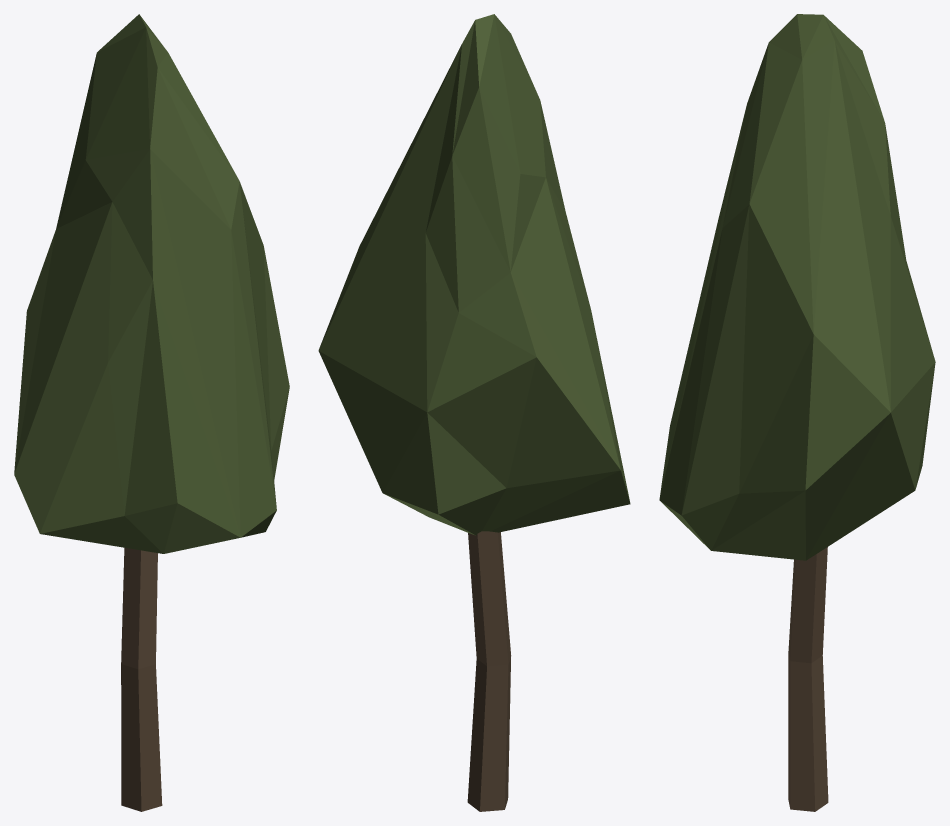
File: Tree_089.fbx
3 renders of one model, left to right at view 1: azimuth 30°, elevation 25°; view 2: azimuth 150°, elevation 25°; view 3: azimuth 270°, elevation 25°, orthographic.
Visible parts, largest first — view 1: Tree_089; view 2: Tree_089; view 3: Tree_089.
Boxes of the visible parts, bbox=[...] form: Tree_089: bbox=[14, 14, 289, 811]; Tree_089: bbox=[318, 14, 630, 811]; Tree_089: bbox=[659, 14, 935, 811].
Bounding box in the file's own units: 0.6915 × 1.87 × 0.5908.
Materials: 1 (1 with a texture image).
